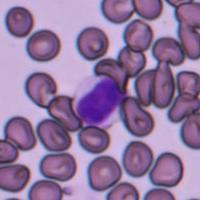L: (74, 74, 123, 128)
